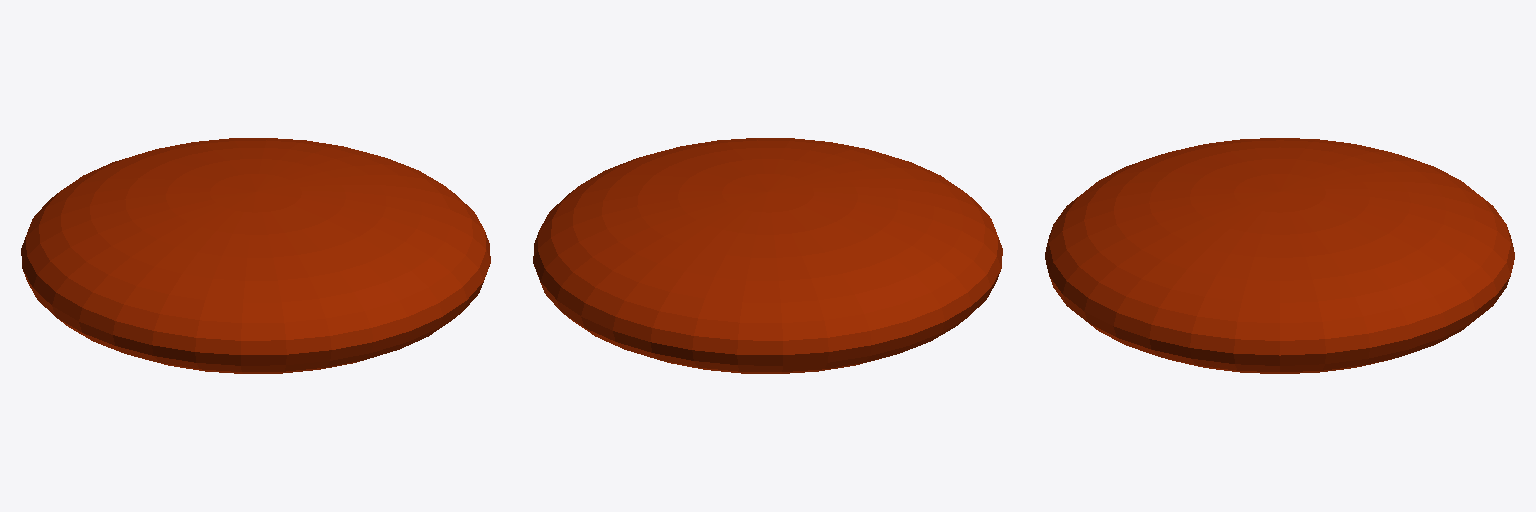
Rendered from clayPigeon.obj.
3 renders of one model, left to right at view 1: azimuth 30°, elevation 25°; view 2: azimuth 150°, elevation 25°; view 3: azimuth 270°, elevation 25°, orthographic.
Parts seen in each view (by area): view 1: Sphere_cell_Sphere_cell.008, Sphere, Sphere_cell.003_Sphere_cell.002, Sphere_cell.002_Sphere_cell.001, Sphere_cell.001_Sphere_cell.000, Sphere_cell.006_Sphere_cell.005, Sphere_cell.004_Sphere_cell.003, Sphere_cell.005_Sphere_cell.004; view 2: Sphere, Sphere_cell.001_Sphere_cell.000, Sphere_cell.003_Sphere_cell.002, Sphere_cell.005_Sphere_cell.004, Sphere_cell.007_Sphere_cell.006, Sphere_cell.002_Sphere_cell.001, Sphere_cell_Sphere_cell.008, Sphere_cell.004_Sphere_cell.003; view 3: Sphere_cell.001_Sphere_cell.000, Sphere, Sphere_cell.002_Sphere_cell.001, Sphere_cell_Sphere_cell.008, Sphere_cell.006_Sphere_cell.005, Sphere_cell.004_Sphere_cell.003, Sphere_cell.005_Sphere_cell.004, Sphere_cell.003_Sphere_cell.002.
Boxes of the visible parts, <box> form: Sphere_cell_Sphere_cell.008: <box>148,236,428,372</box>; Sphere: <box>23,144,490,373</box>; Sphere_cell.003_Sphere_cell.002: <box>29,181,197,355</box>; Sphere_cell.002_Sphere_cell.001: <box>258,173,484,251</box>; Sphere_cell.001_Sphere_cell.000: <box>170,138,488,240</box>; Sphere_cell.006_Sphere_cell.005: <box>223,250,490,373</box>; Sphere_cell.004_Sphere_cell.003: <box>158,162,257,253</box>; Sphere_cell.005_Sphere_cell.004: <box>40,149,183,247</box>; Sphere: <box>605,138,1002,365</box>; Sphere_cell.001_Sphere_cell.000: <box>533,162,716,351</box>; Sphere_cell.003_Sphere_cell.002: <box>779,199,1000,340</box>; Sphere_cell.005_Sphere_cell.004: <box>632,246,907,369</box>; Sphere_cell.007_Sphere_cell.006: <box>683,314,931,373</box>; Sphere_cell.002_Sphere_cell.001: <box>650,139,838,203</box>; Sphere_cell_Sphere_cell.008: <box>752,138,997,235</box>; Sphere_cell.004_Sphere_cell.003: <box>715,177,897,249</box>; Sphere_cell.001_Sphere_cell.000: <box>1183,199,1512,373</box>; Sphere: <box>1045,144,1514,366</box>; Sphere_cell.002_Sphere_cell.001: <box>1128,182,1319,366</box>; Sphere_cell_Sphere_cell.008: <box>1047,153,1196,265</box>; Sphere_cell.006_Sphere_cell.005: <box>1045,249,1189,364</box>; Sphere_cell.004_Sphere_cell.003: <box>1199,156,1404,202</box>; Sphere_cell.005_Sphere_cell.004: <box>1357,145,1513,264</box>; Sphere_cell.003_Sphere_cell.002: <box>1172,138,1369,171</box>.
Size of the model in its own units: 2 by 0.6 by 2.